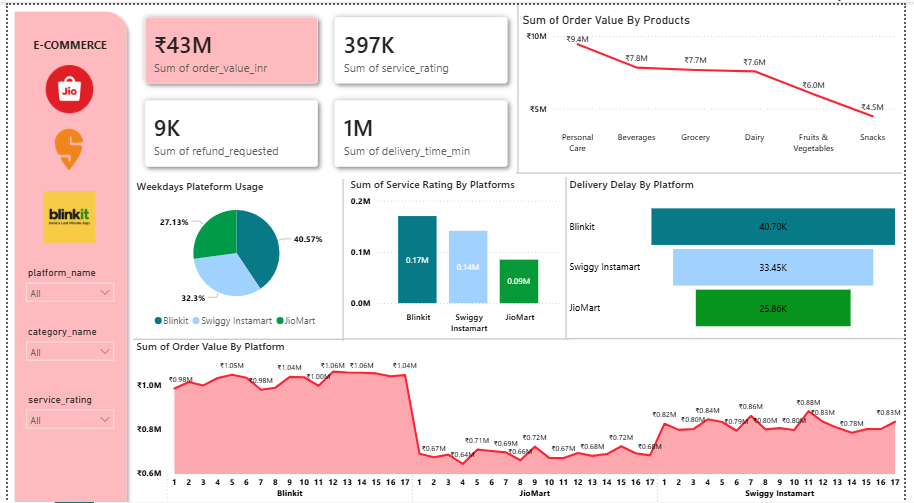

Layout of this report page (visuals, bound fields, positions):
{"tool":"powerbi","page":{"name":"Page 1","canvas":[1280,720],"ordinal":0},"visuals":[{"type":"shape","box":[0,0,178.5,720],"z":0},{"type":"textbox","box":[16.1,41,146.3,39.5],"z":1000},{"type":"cardVisual","fields":{"Data":["Sum(QuickCommerce.order_value_inr)","Sum(QuickCommerce.service_rating)","Sum(QuickCommerce.refund_requested)","Sum(QuickCommerce.delivery_time_min)"]},"box":[178.5,0,553.2,248.8],"z":2000},{"type":"pieChart","title":"Weekdays Plateform Usage","fields":{"Category":["QuickCommerce.platform_name"],"Y":["Sum(QuickCommerce.order_value_inr)"]},"box":[178.5,248.8,295.6,221],"z":3000},{"type":"columnChart","title":"Sum of Service Rating By Platforms","fields":{"Category":["QuickCommerce.platform_name"],"Series":["QuickCommerce.platform_name"],"Y":["Sum(QuickCommerce.service_rating)"]},"box":[484.4,245.9,310.2,231.2],"z":4000},{"type":"areaChart","title":"Sum of Order Value By Platform","fields":{"Category":["QuickCommerce.platform_name","QuickCommerce.date.Variation.Date Hierarchy.Day"],"Y":["Sum(QuickCommerce.order_value_inr)"]},"box":[178.5,477.1,1102,242.9],"z":5000},{"type":"shape","box":[178.5,459.5,300,35.1],"z":6000},{"type":"shape","box":[474.1,248.8,8.8,231.2],"z":7000},{"type":"areaChart","title":"Sum of Order Value By Products","fields":{"Category":["QuickCommerce.product_category_name"],"Y":["Sum(QuickCommerce.order_value_inr)"]},"box":[730,11.4,550,208.6],"z":8000},{"type":"funnel","title":"Delivery Delay By Platform","fields":{"Category":["QuickCommerce.platform_name"],"Y":["CountNonNull(QuickCommerce.delivery_delay)"]},"box":[797.1,245.7,480,237.1],"z":9000},{"type":"shape","box":[793.2,245.9,8.8,231.2],"z":10000},{"type":"shape","box":[799,469.8,481.5,13.2],"z":11000},{"type":"shape","box":[478.6,460,322.9,34.3],"z":11001},{"type":"shape","box":[725.7,0,5.7,240],"z":11002},{"type":"shape","box":[725.7,231.4,551.4,17.1],"z":11003},{"type":"slicer","fields":{"Values":["QuickCommerce.platform_name"]},"box":[15.7,368.6,145.7,58.6],"z":11004},{"type":"slicer","fields":{"Values":["QuickCommerce.product_category_name"]},"box":[15.7,452.9,145.7,58.6],"z":11005},{"type":"slicer","fields":{"Values":["QuickCommerce.service_rating"]},"box":[15.7,550,145.7,58.6],"z":11006},{"type":"image","box":[42.9,85.7,90,68.6],"z":11007},{"type":"image","box":[40,171.4,97.1,68.6],"z":11008},{"type":"image","box":[48.6,265.7,78.6,74.3],"z":11009}]}

Visuals, with their boxes in screenshot pixels (x1, y1, x2, y2), scaled from the page's 1280x720 canvas onto the 914x503 screenshot:
shape: detection(0, 0, 127, 502)
textbox: detection(11, 29, 116, 56)
cardVisual - Sum(QuickCommerce.order_value_inr) x Sum(QuickCommerce.service_rating): detection(127, 0, 522, 174)
"Weekdays Plateform Usage" pieChart: detection(127, 174, 339, 328)
"Sum of Service Rating By Platforms" columnChart: detection(346, 172, 567, 333)
"Sum of Order Value By Platform" areaChart: detection(127, 333, 913, 502)
shape: detection(127, 321, 342, 346)
shape: detection(339, 174, 345, 335)
"Sum of Order Value By Products" areaChart: detection(521, 8, 913, 154)
"Delivery Delay By Platform" funnel: detection(569, 172, 912, 337)
shape: detection(566, 172, 573, 333)
shape: detection(571, 328, 913, 337)
shape: detection(342, 321, 572, 345)
shape: detection(518, 0, 522, 168)
shape: detection(518, 162, 912, 174)
slicer - QuickCommerce.platform_name: detection(11, 258, 115, 298)
slicer - QuickCommerce.product_category_name: detection(11, 316, 115, 357)
slicer - QuickCommerce.service_rating: detection(11, 384, 115, 425)
image: detection(31, 60, 95, 108)
image: detection(29, 120, 98, 168)
image: detection(35, 186, 91, 238)
